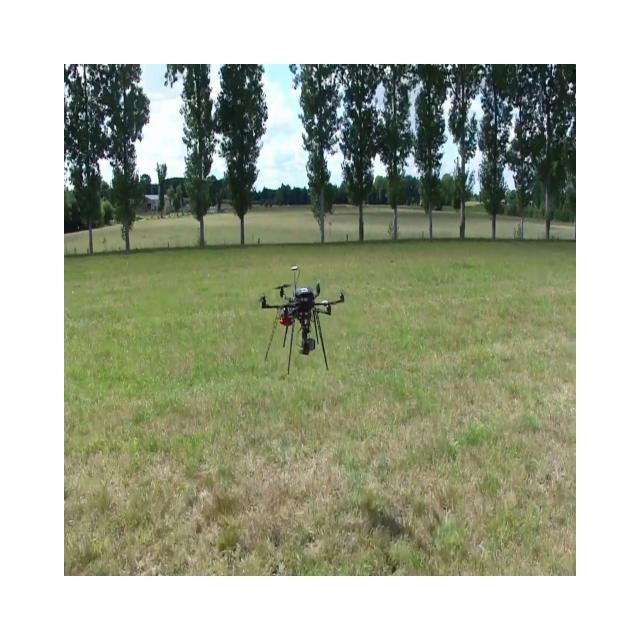drone: (257, 264, 345, 374)
